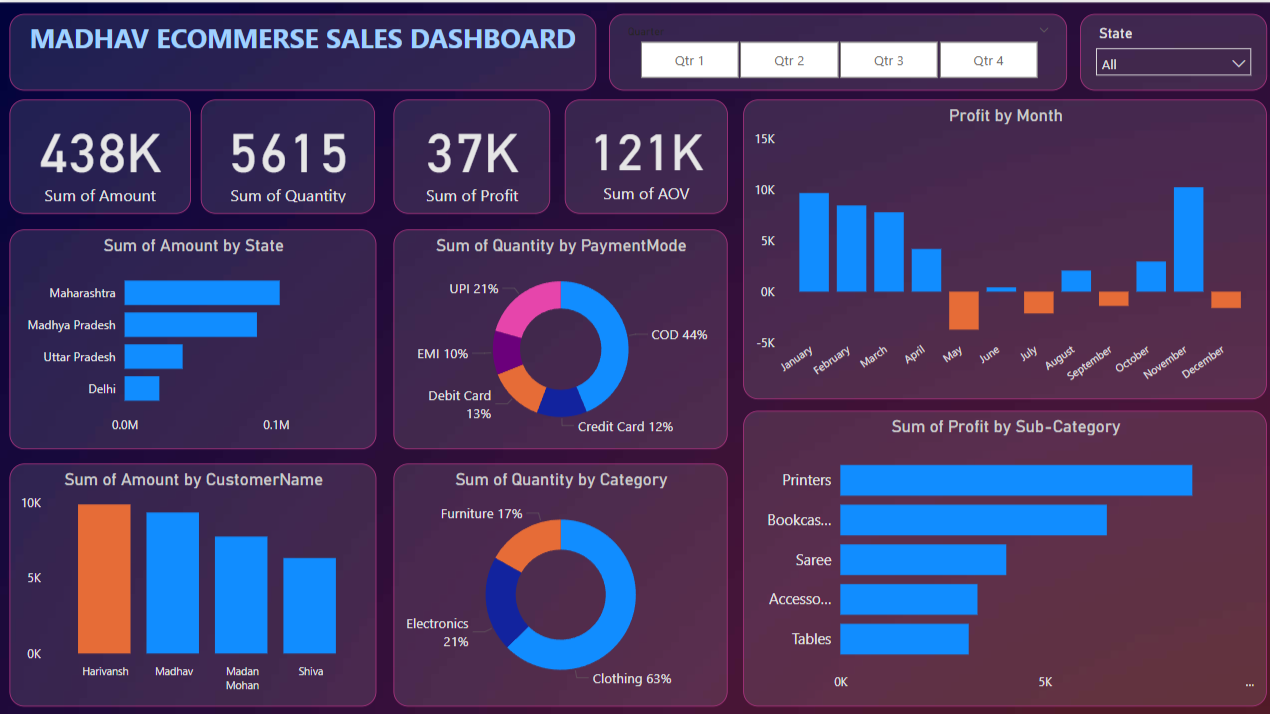

What the dashboard file says about the page in this screenshot:
{"tool":"powerbi","page":{"name":"Page 1","canvas":[1280,720],"ordinal":0},"visuals":[{"type":"textbox","box":[10,11.4,587.1,77.1],"z":0},{"type":"columnChart","title":"Profit by Month","fields":{"Category":["Orders.Order Date.Variation.Date Hierarchy.Month"],"Y":["Details.Profit"]},"box":[744.3,97.1,524.3,300],"z":1000},{"type":"barChart","fields":{"Category":["Details.Sub-Category"],"Y":["Details.Profit"]},"box":[744.3,408.6,524.3,295.7],"z":2000},{"type":"donutChart","fields":{"Category":["Details.Category"],"Y":["Details.Quantity"]},"box":[394.3,461.4,334.3,242.9],"z":3000},{"type":"donutChart","fields":{"Y":["Details.Quantity"],"Series":["Details.PaymentMode"]},"box":[394.3,227.1,334.3,220],"z":4000},{"type":"card","fields":{"Values":["Details.Amount"]},"box":[10,97.1,181.4,114.3],"z":5000},{"type":"card","fields":{"Values":["Details.Quantity"]},"box":[201.4,97.1,174.3,114.3],"z":6000},{"type":"card","fields":{"Values":["Details.AOV"]},"box":[565.7,97.1,162.9,114.3],"z":8000},{"type":"barChart","title":"Sum of Amount by State","fields":{"Category":["Orders.State"],"Y":["Details.Amount"]},"box":[10,227.1,367.1,220],"z":9000},{"type":"columnChart","fields":{"Category":["Orders.CustomerName"],"Y":["Details.Amount"]},"box":[10,461.4,367.1,242.9],"z":10000},{"type":"card","fields":{"Values":["Details.Profit"]},"box":[394.3,97.1,157.1,114.3],"z":10001},{"type":"slicer","fields":{"Values":["Orders.Order Date.Variation.Date Hierarchy.Quarter"]},"box":[610,11.4,458.6,77.1],"z":10002},{"type":"slicer","fields":{"Values":["Orders.State"]},"box":[1081.4,11.4,187.1,77.1],"z":10003}]}

Visuals, with their boxes in screenshot pixels (x1, y1, x2, y2), scaled from the page's 1280x720 canvas onto the 1270x714 screenshot:
textbox: bbox=[10, 11, 592, 88]
"Profit by Month" columnChart: bbox=[738, 96, 1259, 394]
barChart - Details.Sub-Category x Details.Profit: bbox=[738, 405, 1259, 698]
donutChart - Details.Category x Details.Quantity: bbox=[391, 458, 723, 698]
donutChart - Details.Quantity x Details.PaymentMode: bbox=[391, 225, 723, 443]
card - Details.Amount: bbox=[10, 96, 190, 210]
card - Details.Quantity: bbox=[200, 96, 373, 210]
card - Details.AOV: bbox=[561, 96, 723, 210]
"Sum of Amount by State" barChart: bbox=[10, 225, 374, 443]
columnChart - Orders.CustomerName x Details.Amount: bbox=[10, 458, 374, 698]
card - Details.Profit: bbox=[391, 96, 547, 210]
slicer - Orders.Order Date.Variation.Date Hierarchy.Quarter: bbox=[605, 11, 1060, 88]
slicer - Orders.State: bbox=[1073, 11, 1259, 88]
